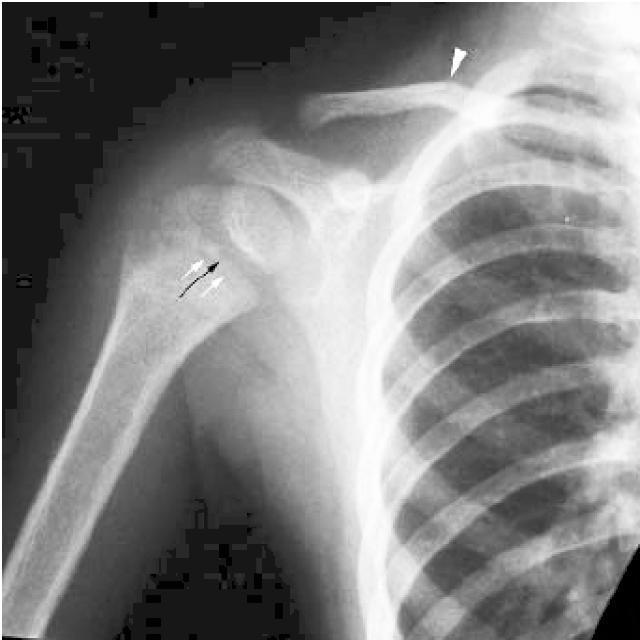GreenStick Fracture: (199, 218, 279, 289)
